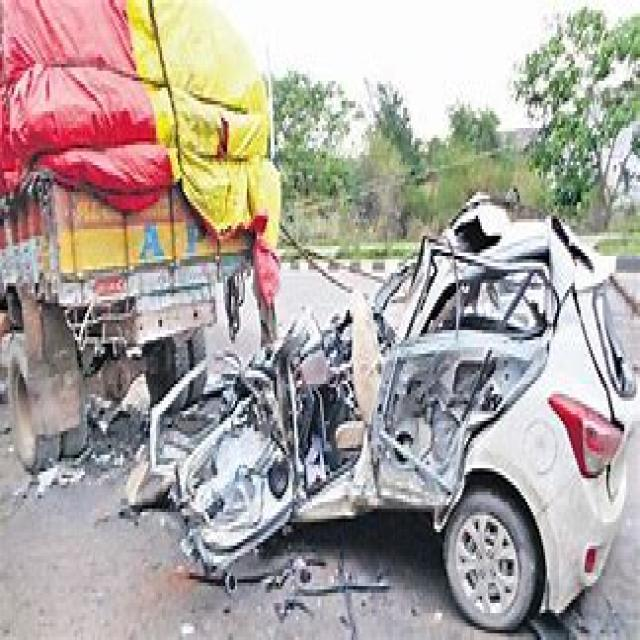multiple_accident: (140, 108, 640, 640)
